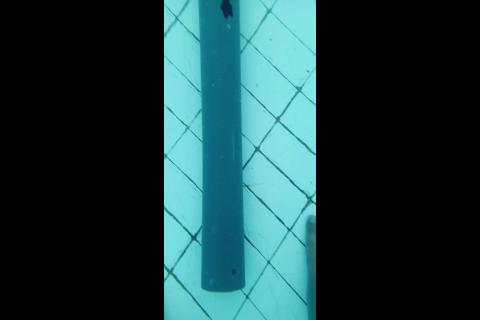kebocoran: (221, 0, 233, 18)
